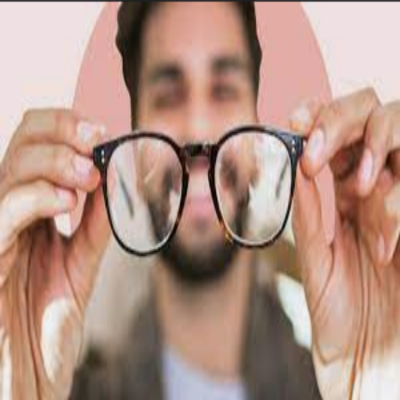glasses: (92, 124, 309, 261)
